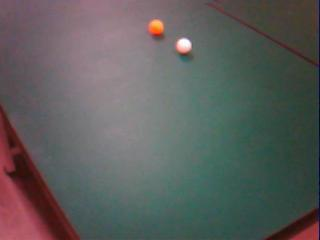oball: (148, 19, 164, 35)
